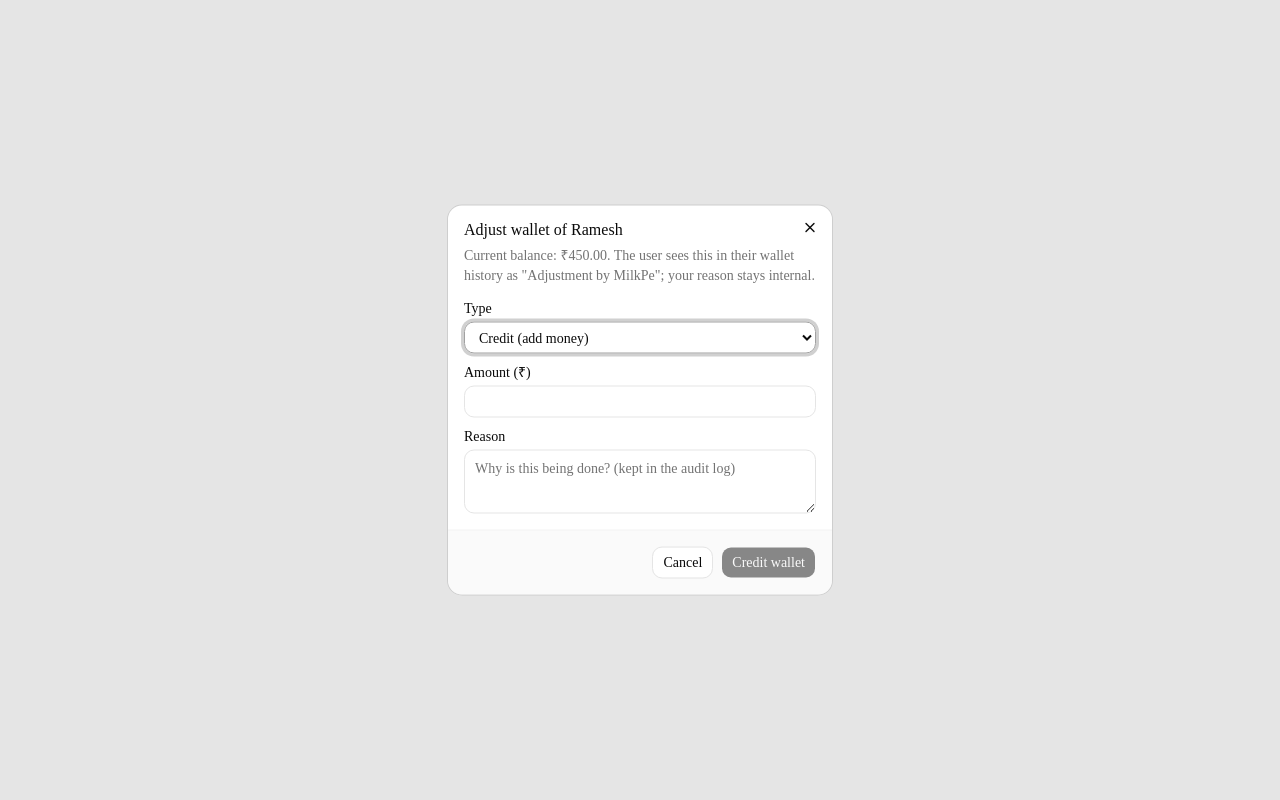
Test: AdjustWalletDialog › needs an amount and a reason before it can be sent, and says what will happen
Expected: the button "Credit wallet" is disabled, x1=721 y1=546 x2=816 y2=578
Type "100" into the field labelled "Amount (₹)" at (640, 402), box x1=464 y1=386 x2=816 y2=418
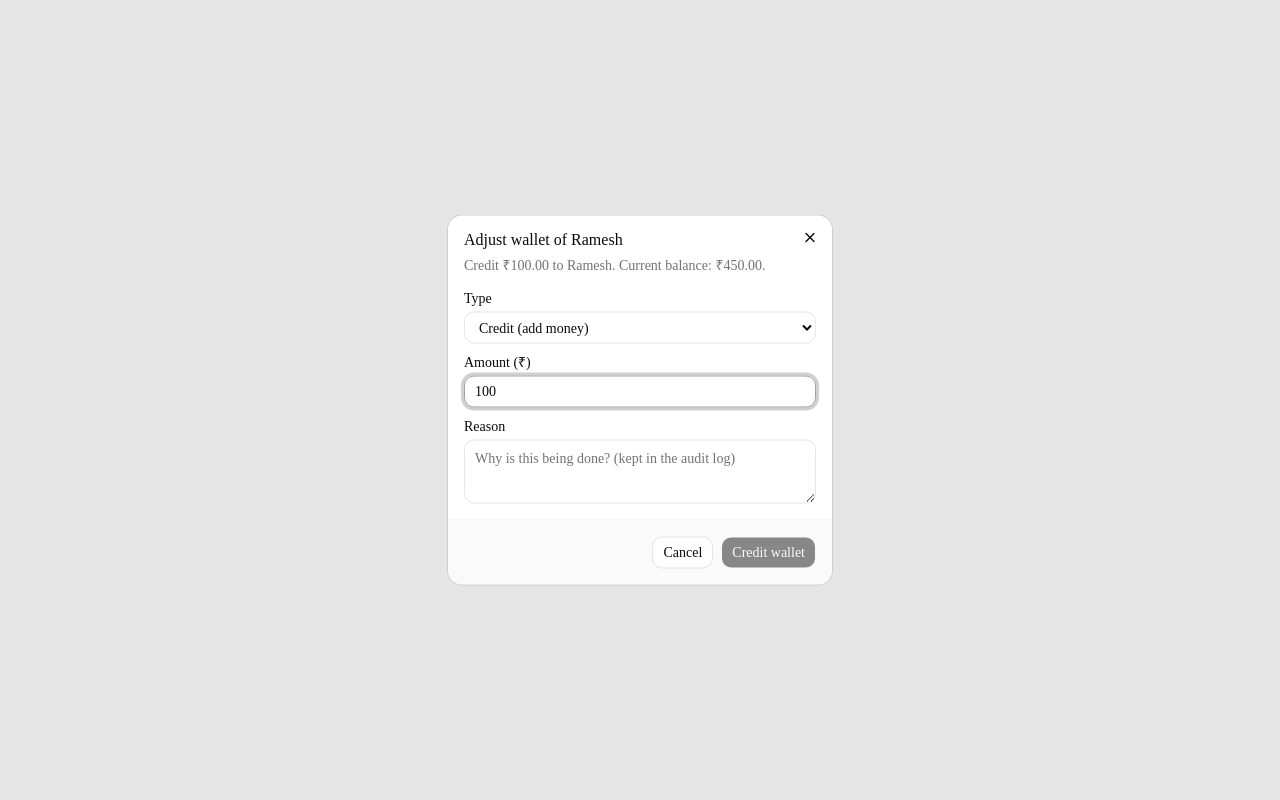
Expected: the button "Credit wallet" is disabled, x1=721 y1=536 x2=816 y2=568
Type "Goodwill" into the text box labelled "Reason" at (640, 472), box x1=464 y1=440 x2=816 y2=504
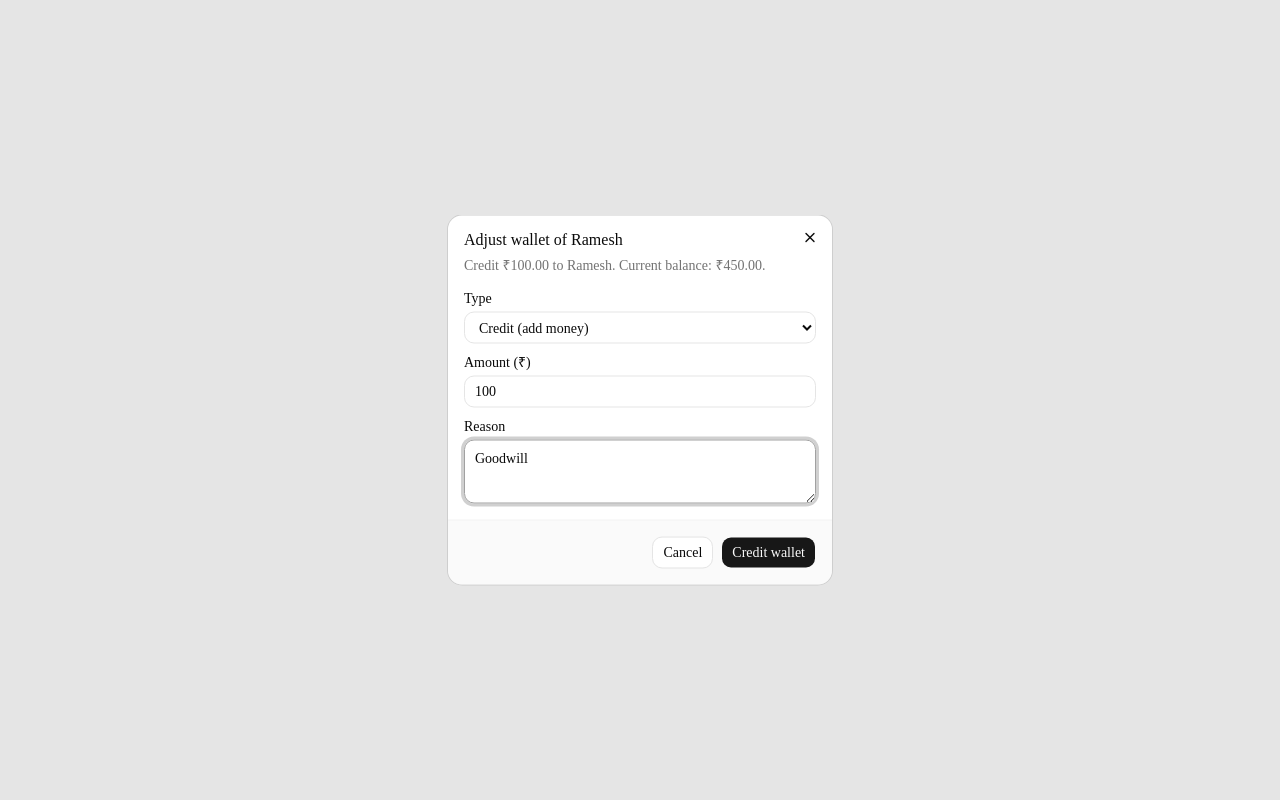
Result: the text "Credit ₹100.00 to Ramesh. Current balance: ₹450.00." is shown at x1=464 y1=256 x2=816 y2=276
Result: the button "Credit wallet" is enabled at x1=721 y1=536 x2=816 y2=568
